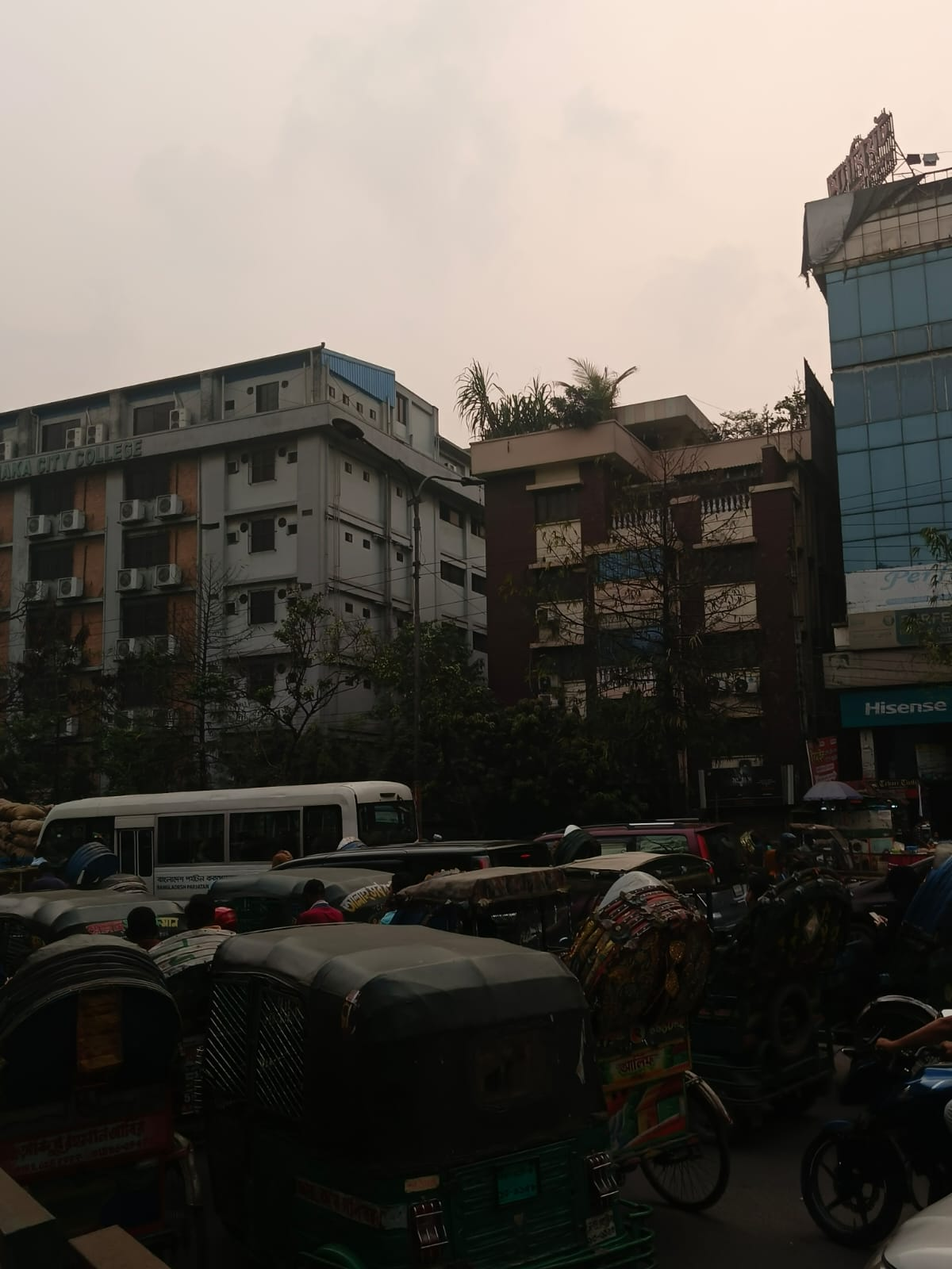Bus: (35, 773, 432, 875)
cng: (200, 917, 608, 1233)
